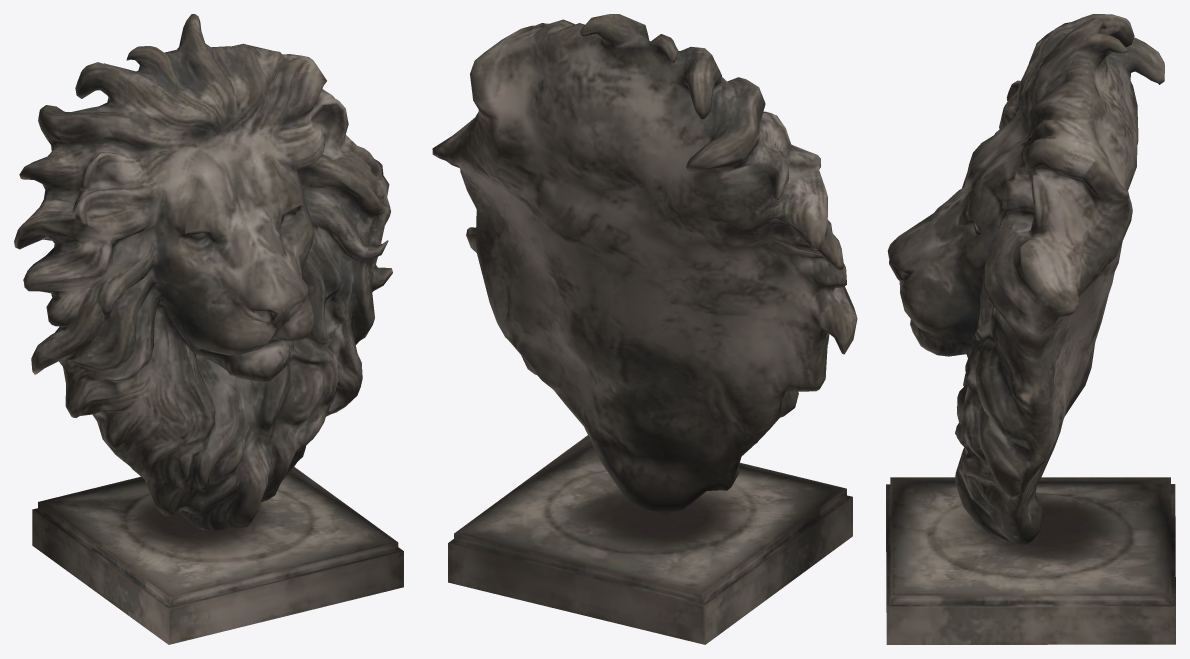
Rendered from lion-head.glb.
3 renders of one model, left to right at view 1: azimuth 30°, elevation 25°; view 2: azimuth 150°, elevation 25°; view 3: azimuth 270°, elevation 25°, orthographic. The views are drawn at different scales.
Parts seen in each view (by area): view 1: lion_head; view 2: lion_head; view 3: lion_head.
Boxes of the visible parts, x1=… form: lion_head: x1=14, y1=14, x2=403, y2=644; lion_head: x1=432, y1=14, x2=857, y2=644; lion_head: x1=886, y1=14, x2=1175, y2=644.
Size of the model in its own units: 0.3202 by 0.4352 by 0.2065.
Materials: 1 (1 with a texture image).
